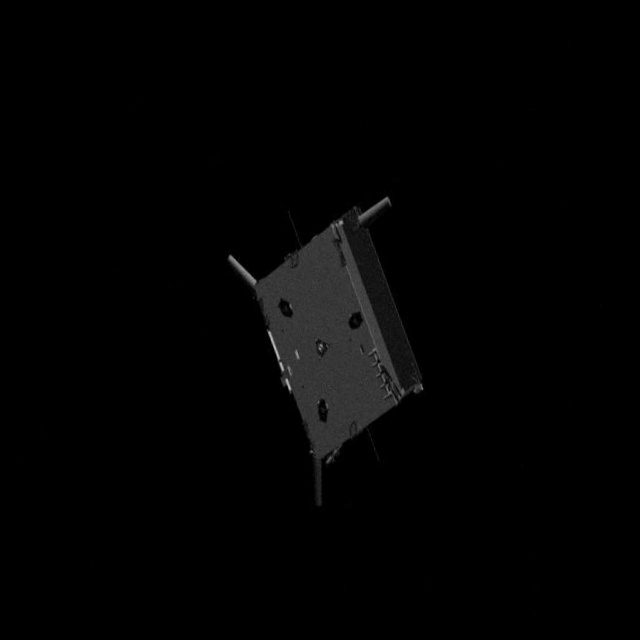satellite: (219, 169, 445, 525)
